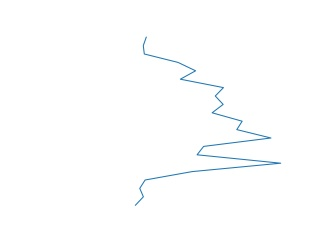floodSwamp: (131, 37, 290, 205)
